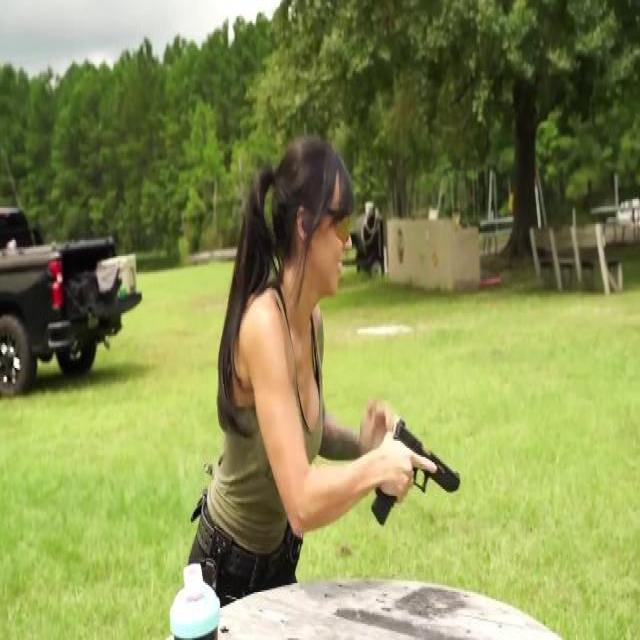pistol: (366, 420, 462, 528)
